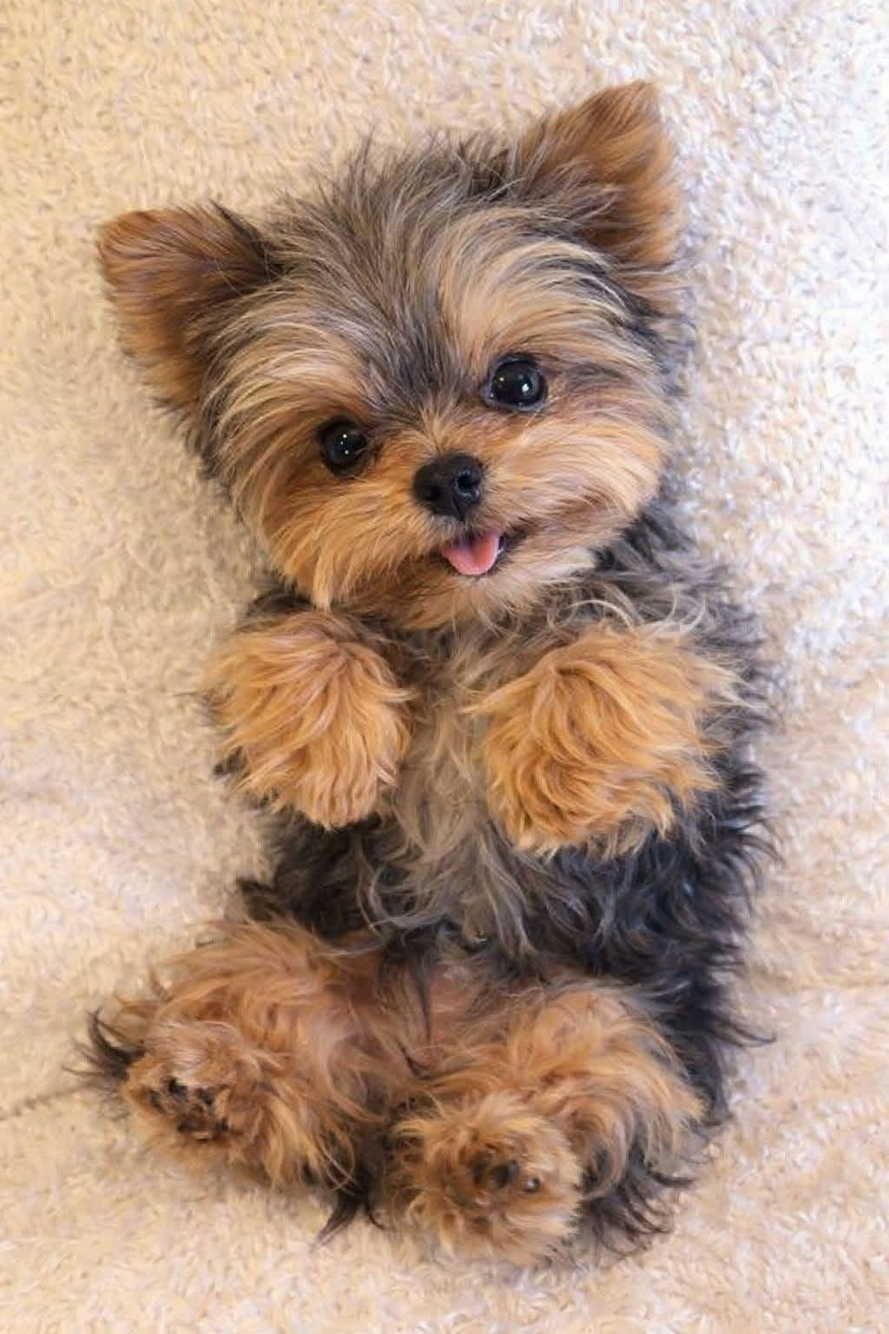puppy-dog: (69, 70, 787, 1278)
